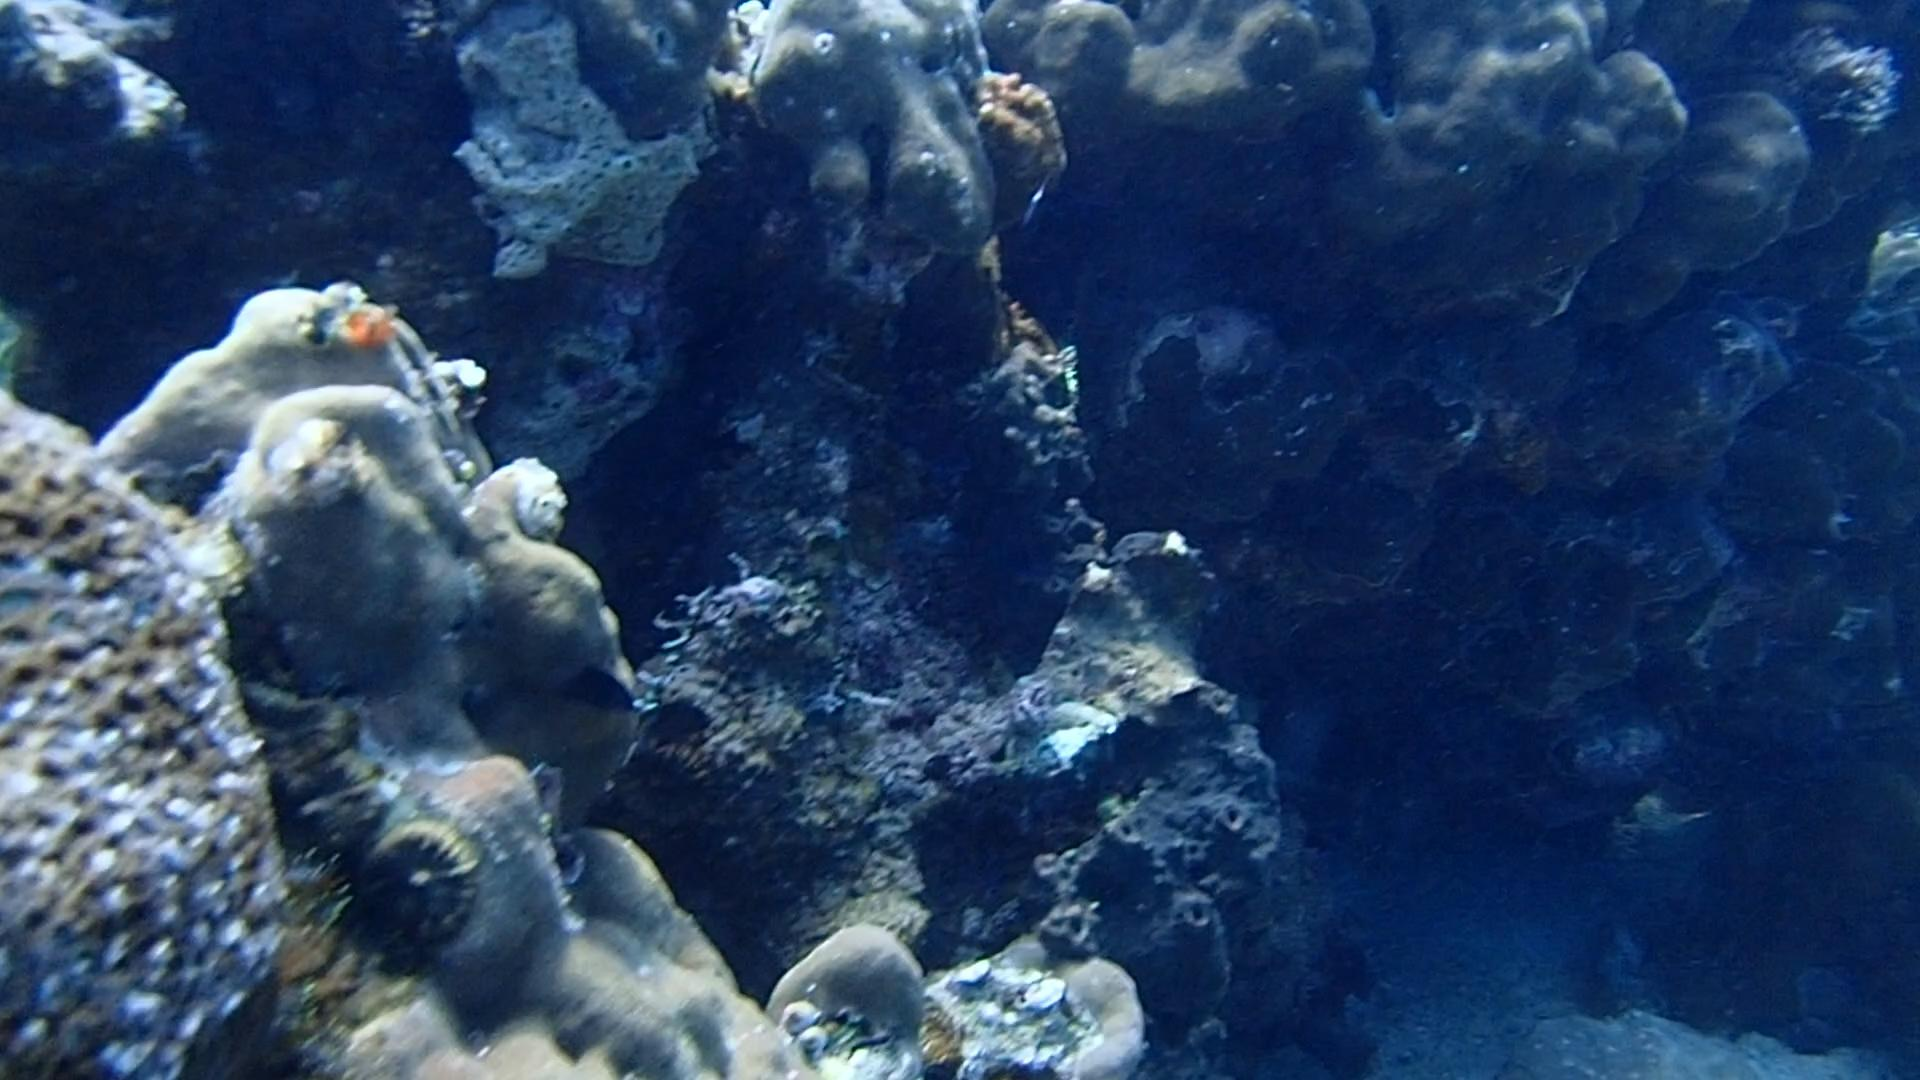Dark Fish: (555, 654, 642, 724), (636, 692, 713, 756)
